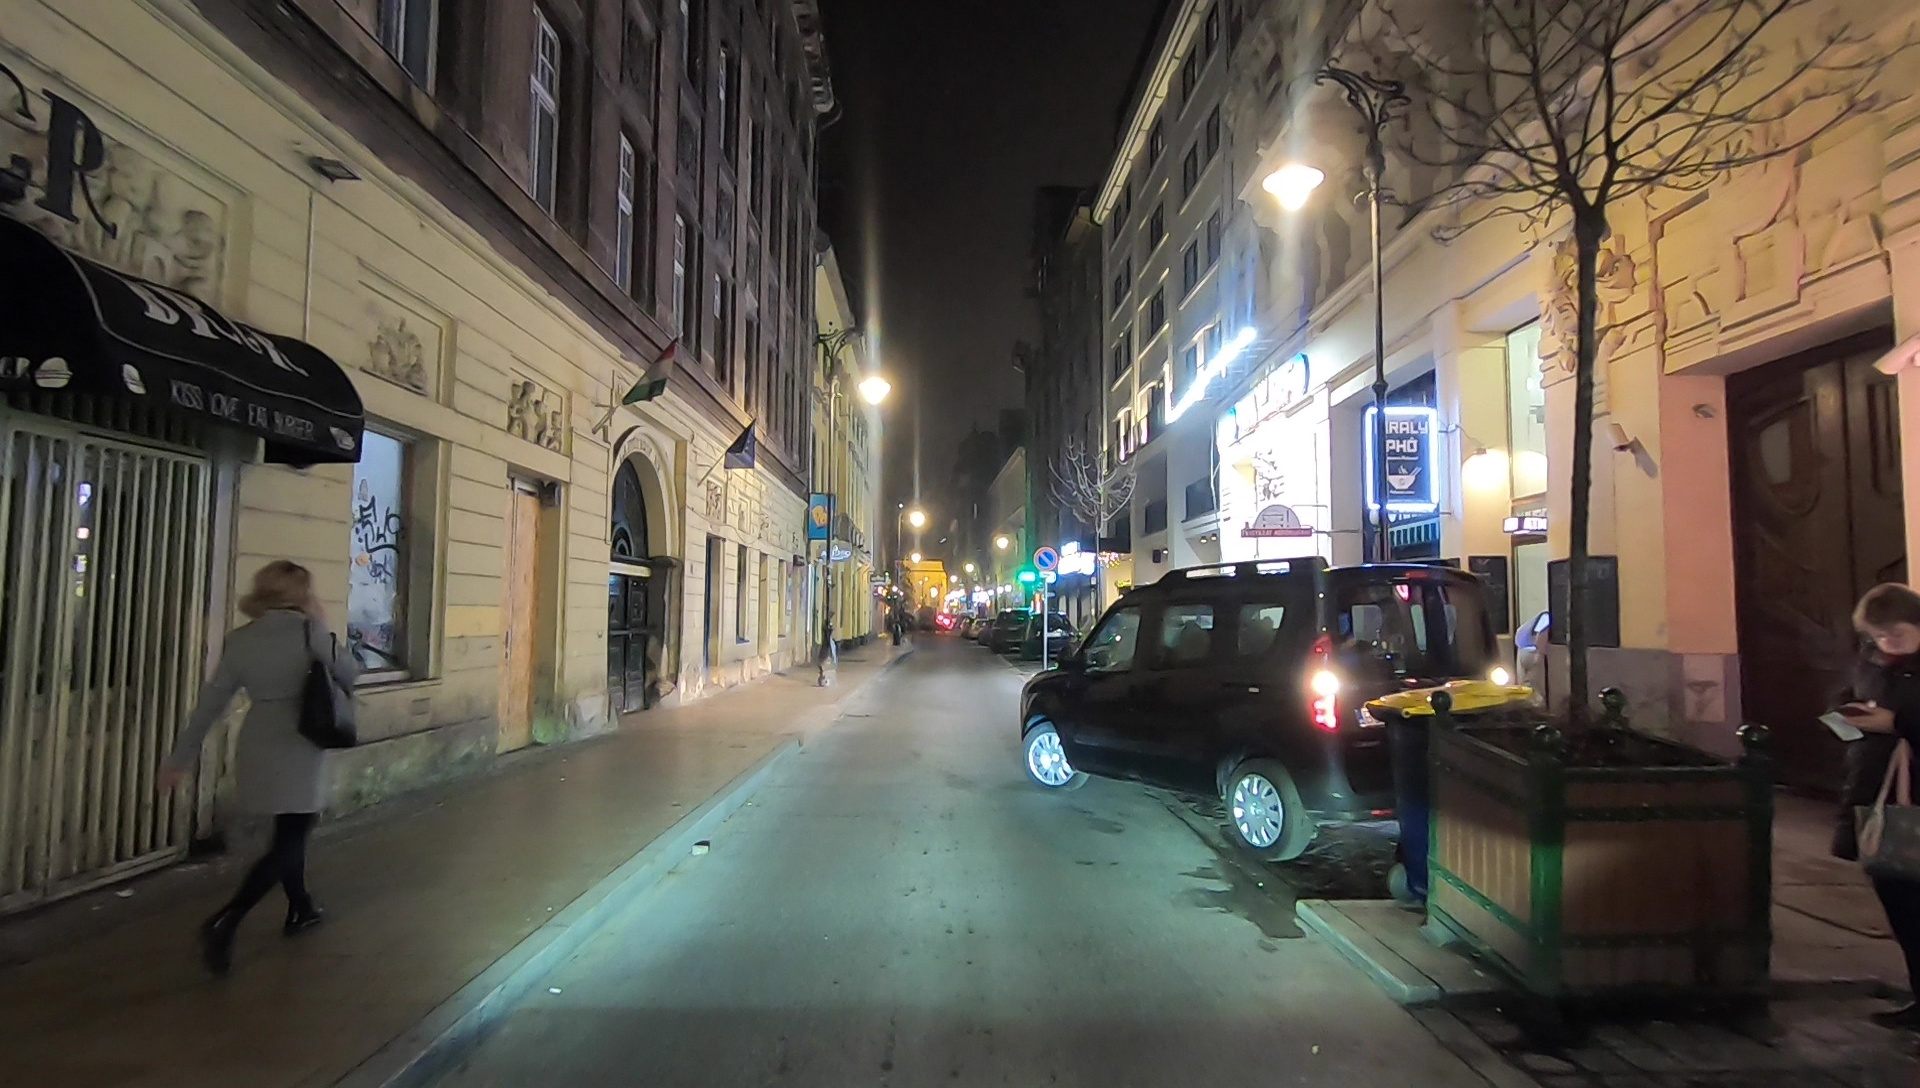person: (167, 545, 339, 943)
